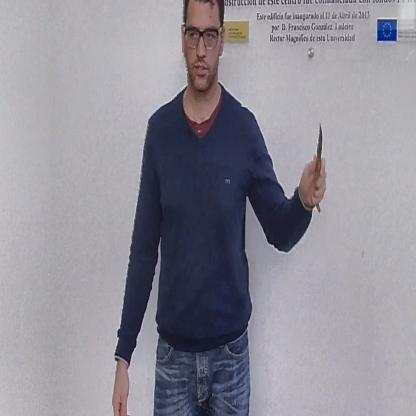knife: (310, 113, 330, 224)
